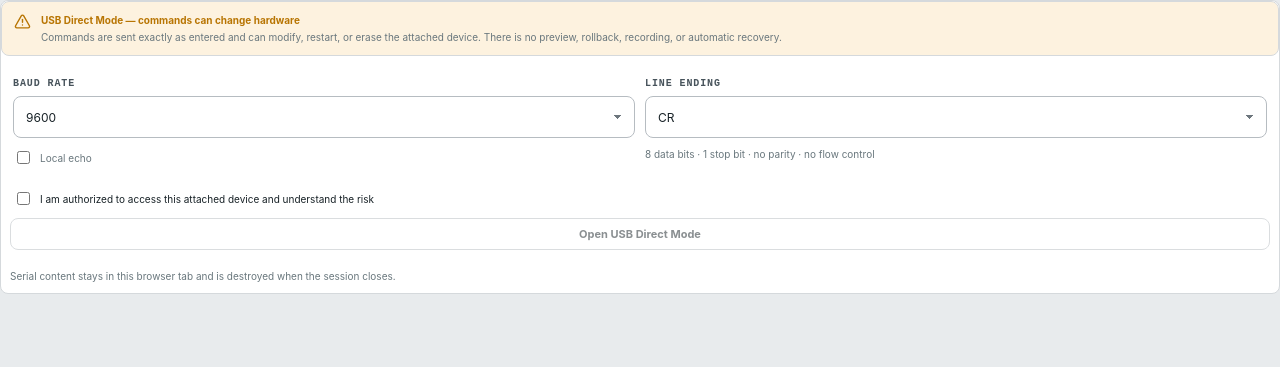
Test: Manual USB Console › keeps a serial read failure sanitized, in memory, and private
Click the checkbox labelled "authorized to access".
click(24, 198)  # box [17,192,30,205]
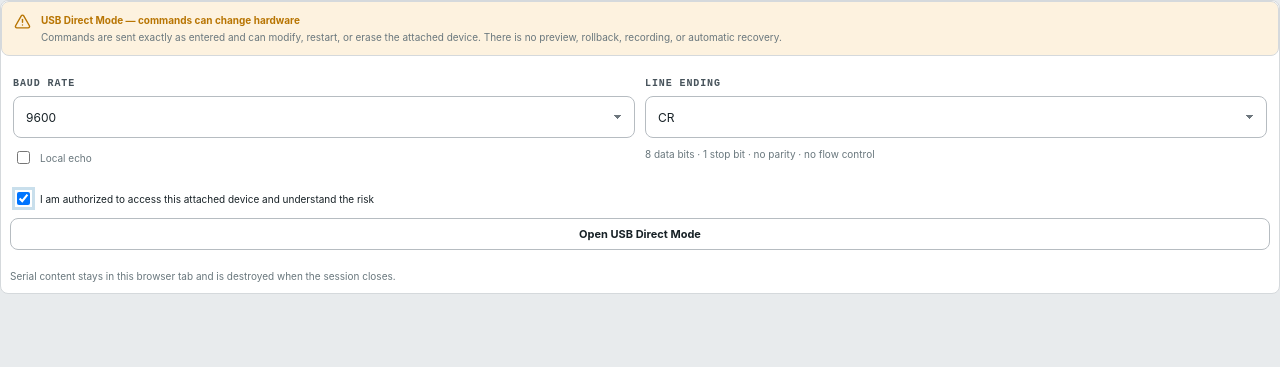
Click the button "Open USB Direct Mode".
click(640, 234)  # box [10,218,1270,250]
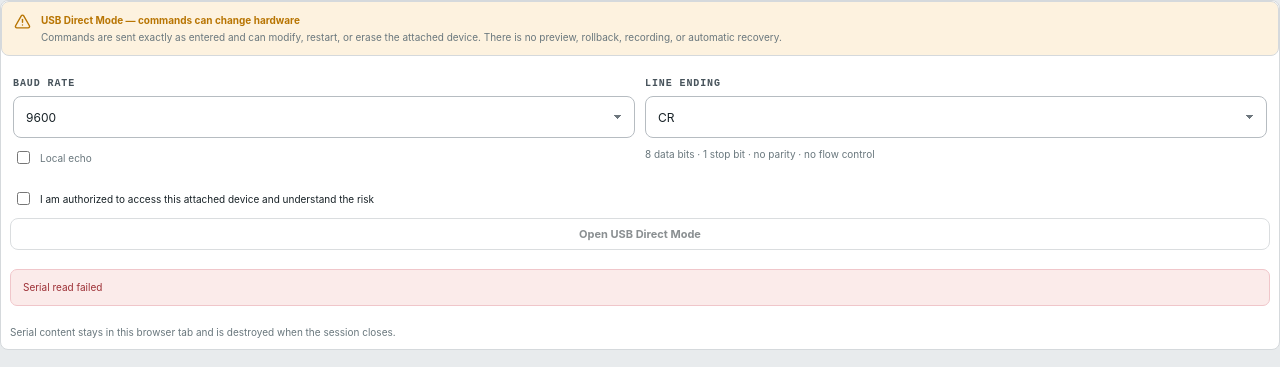
Now the text "Serial read failed" is shown, box [23,281,102,293]
